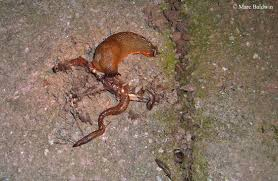slug: (95, 30, 160, 74)
